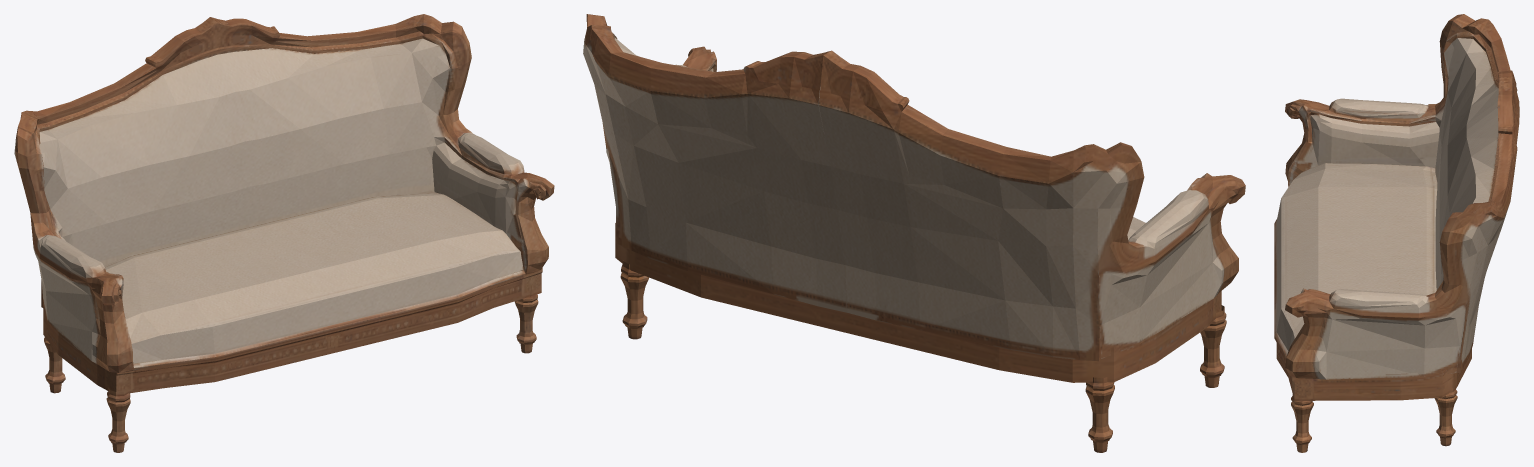
The model's file is Sofa.fbx.
3 renders of one model, left to right at view 1: azimuth 30°, elevation 25°; view 2: azimuth 150°, elevation 25°; view 3: azimuth 270°, elevation 25°, orthographic. The views are drawn at different scales.
Parts seen in each view (by area): view 1: Sofa_Low; view 2: Sofa_Low; view 3: Sofa_Low.
Boxes of the visible parts, x1,y1,x2,y2 form: Sofa_Low: (14,14,554,452); Sofa_Low: (583,14,1245,452); Sofa_Low: (1274,14,1519,452).
Size of the model in its own units: 1.95 by 1.24 by 0.981.
